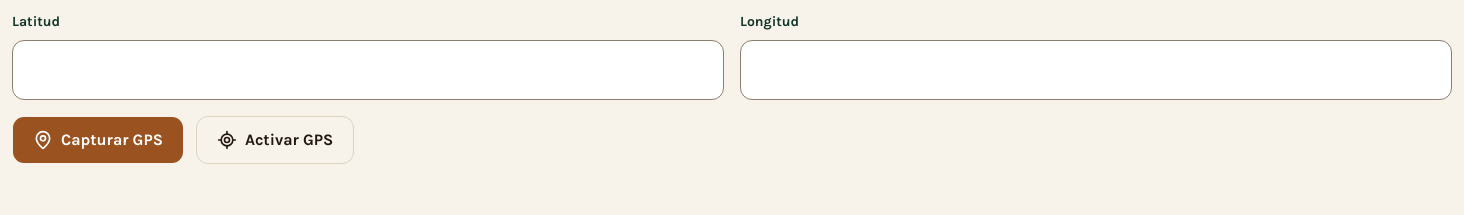
Test case: farm location capture › GPS precision › says so when the device does not report the precision
This screenshot has width=1464, height=215.
Click the button "Capturar GPS" at (98, 140), box [12,116,184,164]
Wait 30000 ms
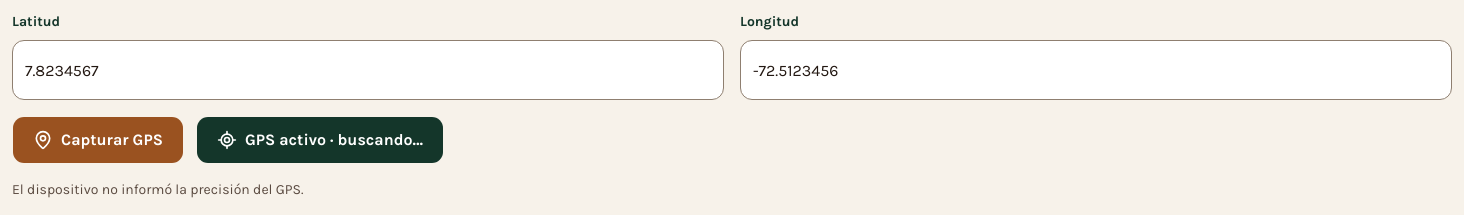
Result: the message reads "El dispositivo no informó la precisión del GPS." at [12,181,304,198]
